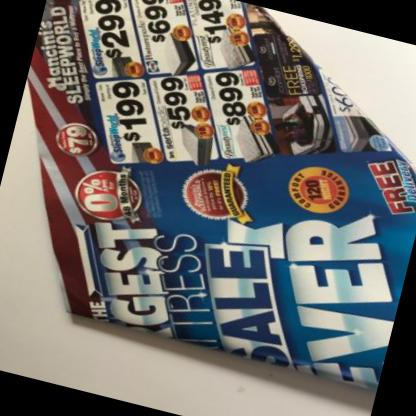Paper: (27, 0, 416, 389)
